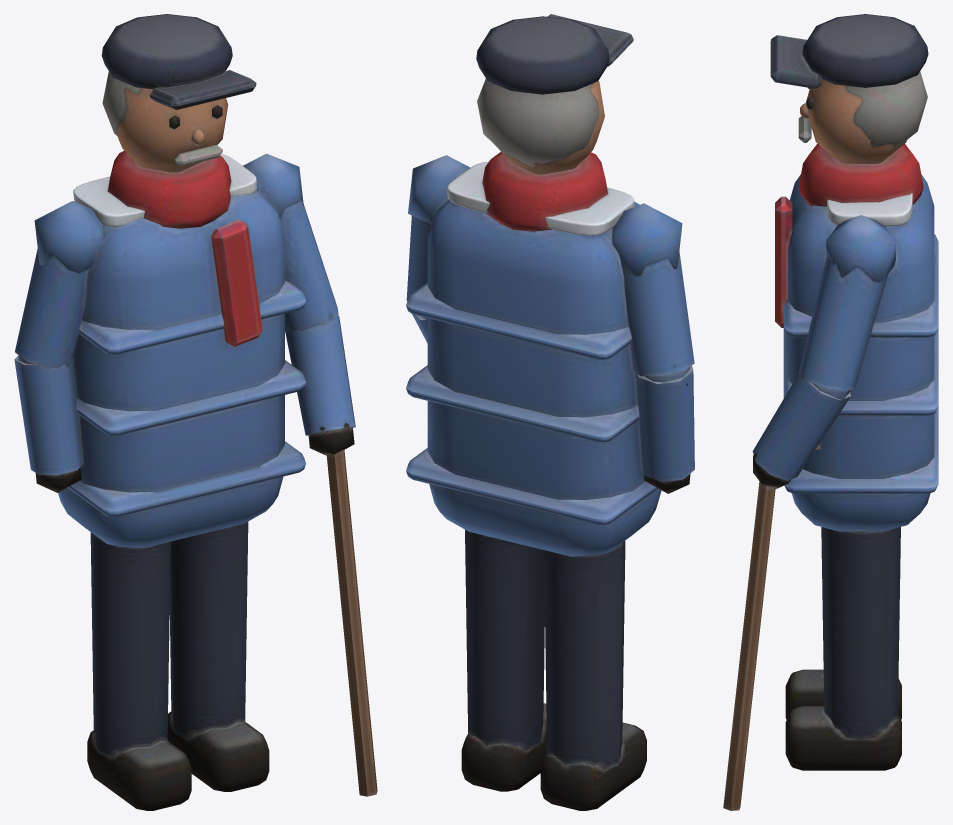
Rendered from citizen_grandpa.glb.
3 views of the same model, side by side, from view 1: azimuth 30°, elevation 25°; view 2: azimuth 150°, elevation 25°; view 3: azimuth 270°, elevation 25° (orthographic). The views are drawn at different scales.
Visible parts, largest first — view 1: citizen_grandpa; view 2: citizen_grandpa; view 3: citizen_grandpa.
Boxes of the visible parts, x1,y1,x2,y2 form: citizen_grandpa: (14, 14, 377, 810); citizen_grandpa: (406, 14, 694, 810); citizen_grandpa: (723, 14, 938, 810).
Size of the model in its own units: 0.7616 by 1.82 by 0.5.
Materials: 1 (1 with a texture image).
